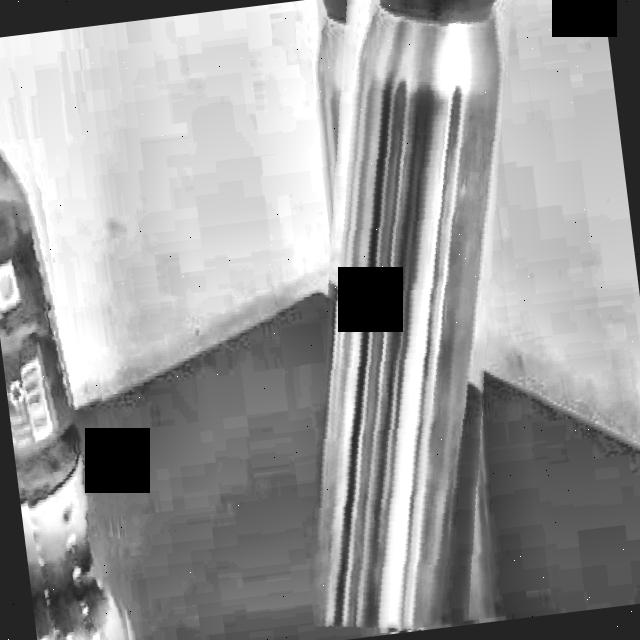bottle: (310, 0, 505, 629), (0, 145, 130, 640)
